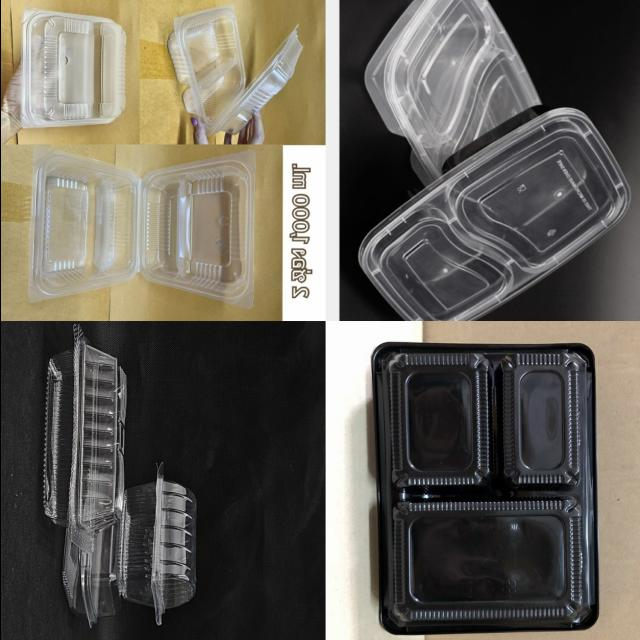plastik: (372, 343, 598, 635), (358, 108, 630, 320), (27, 146, 254, 308), (364, 0, 539, 183), (43, 326, 124, 549), (166, 5, 302, 135), (117, 465, 196, 625), (21, 10, 126, 127), (61, 523, 120, 626)
